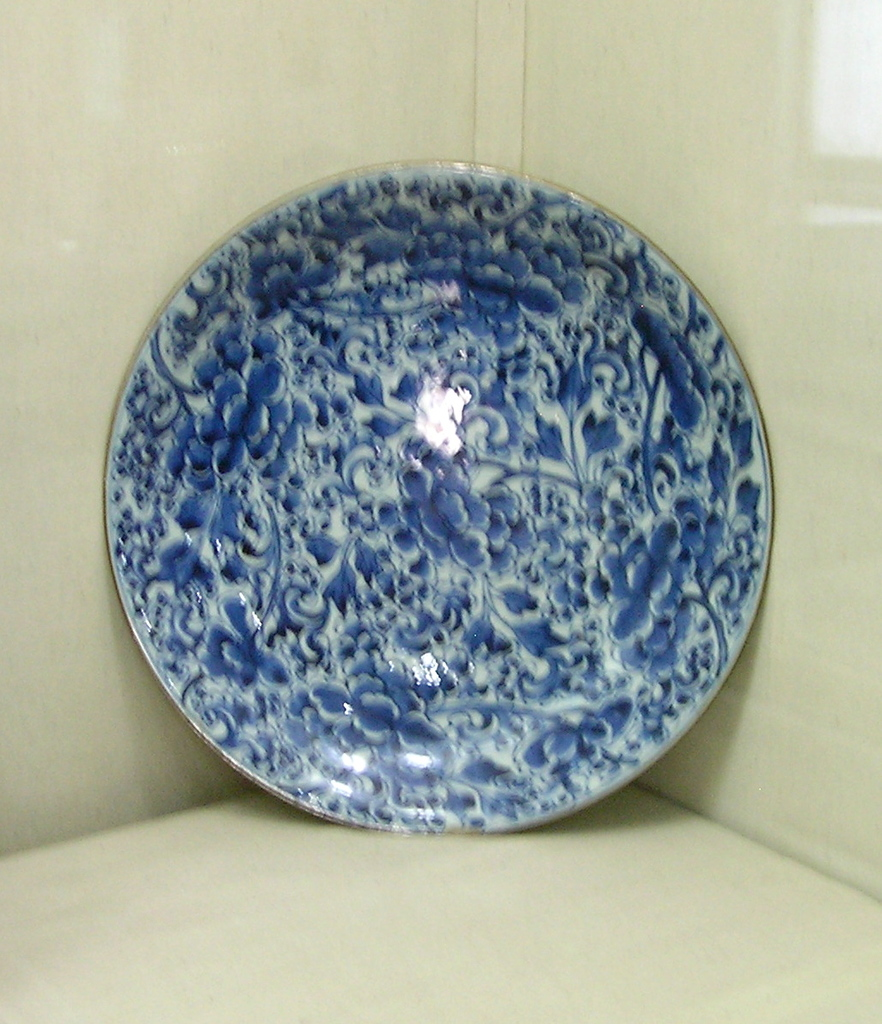plate: (102, 159, 775, 835)
